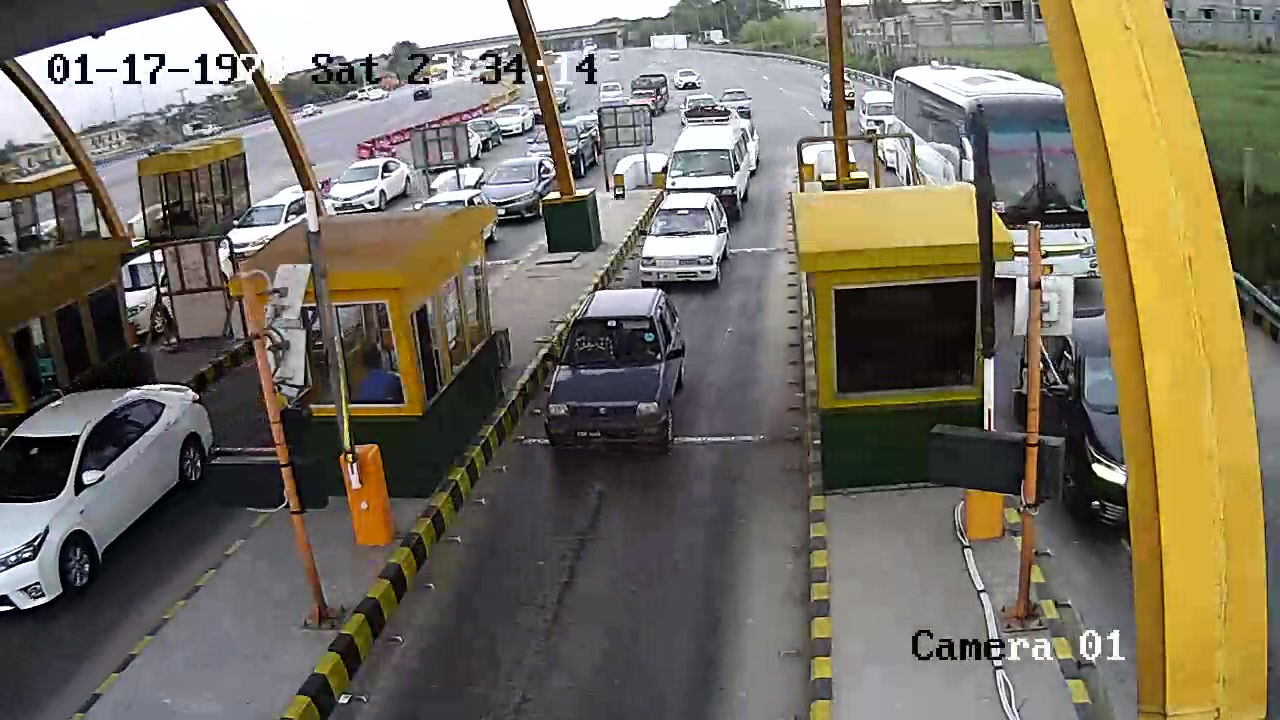F1: (539, 290, 697, 458)
